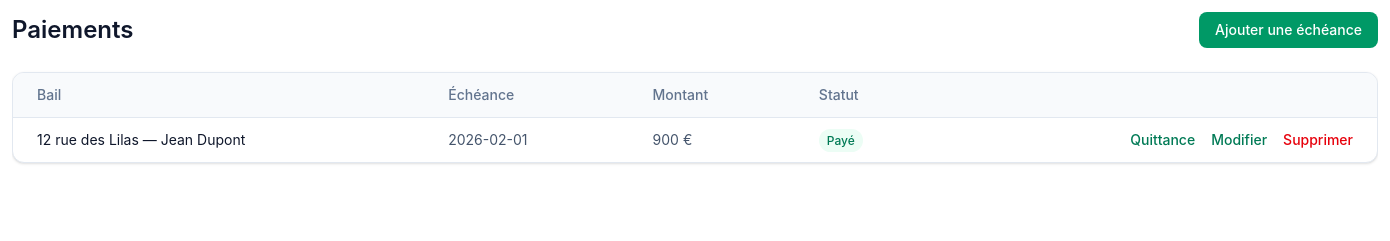
PaymentsPage › bloque la génération de quittance et affiche un message si l'adresse du propriétaire est manquante
Click the button "Quittance" at (1163, 140), box [1130,130,1195,150]
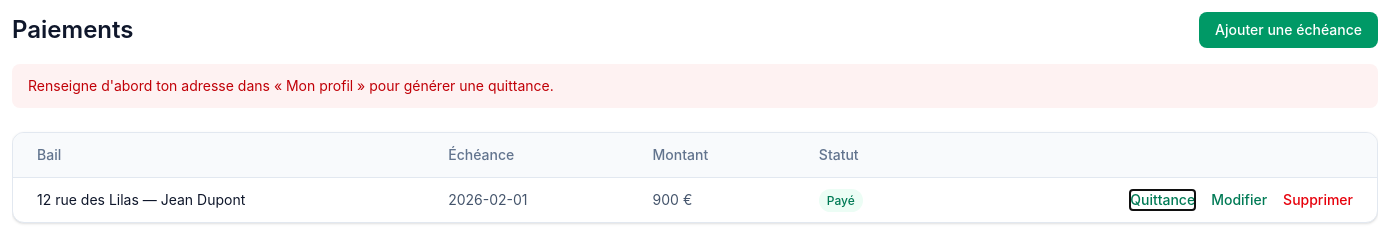
Now the message reads "Renseigne d'abord ton adresse dans « Mon profil » pour générer une quittance.", box [28,77,554,94]
